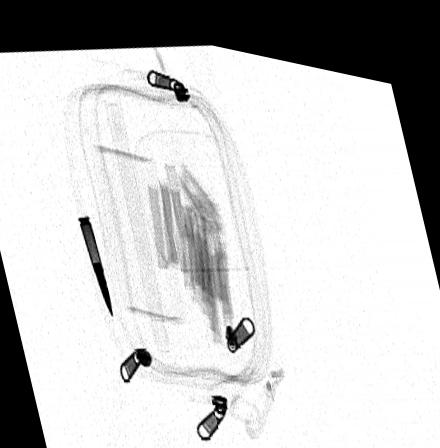Bullet: (75, 211, 113, 316)
